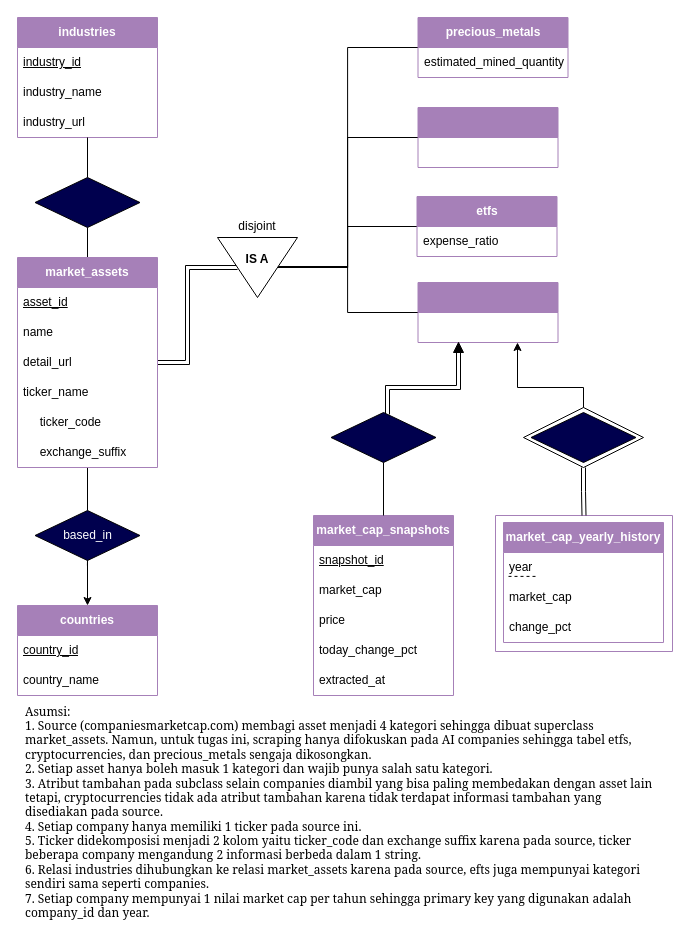
The diagram is 690 pixels wide and 938 high, and some of its shapes have lost their labels. Each missing label, with the centre of its shape:
"classfied_as" belongs at point (87, 202).
"companies" belongs at point (487, 312).
"cryptocurrencies" belongs at point (487, 137).
"history" belongs at point (583, 437).
"recorded" belongs at point (383, 437).
